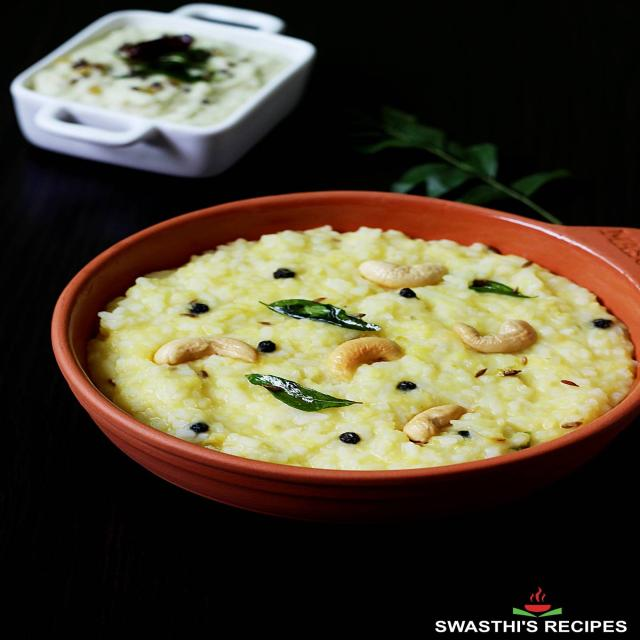khara pongal: (67, 212, 640, 492)
